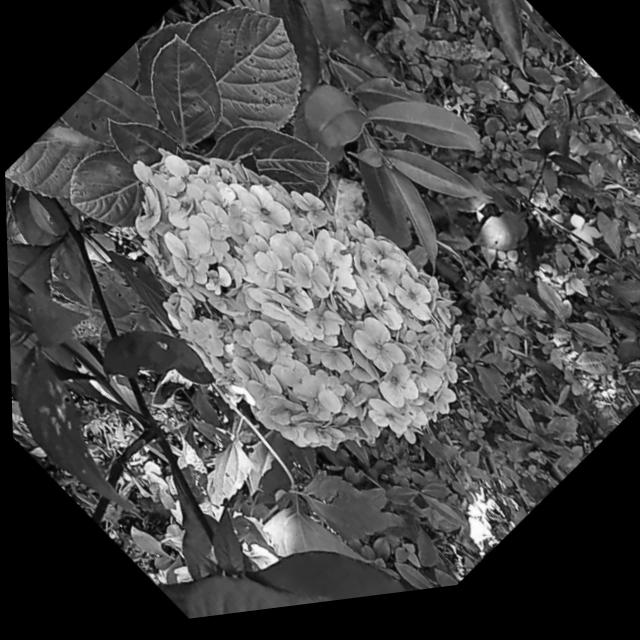Flower: (59, 42, 514, 555)
